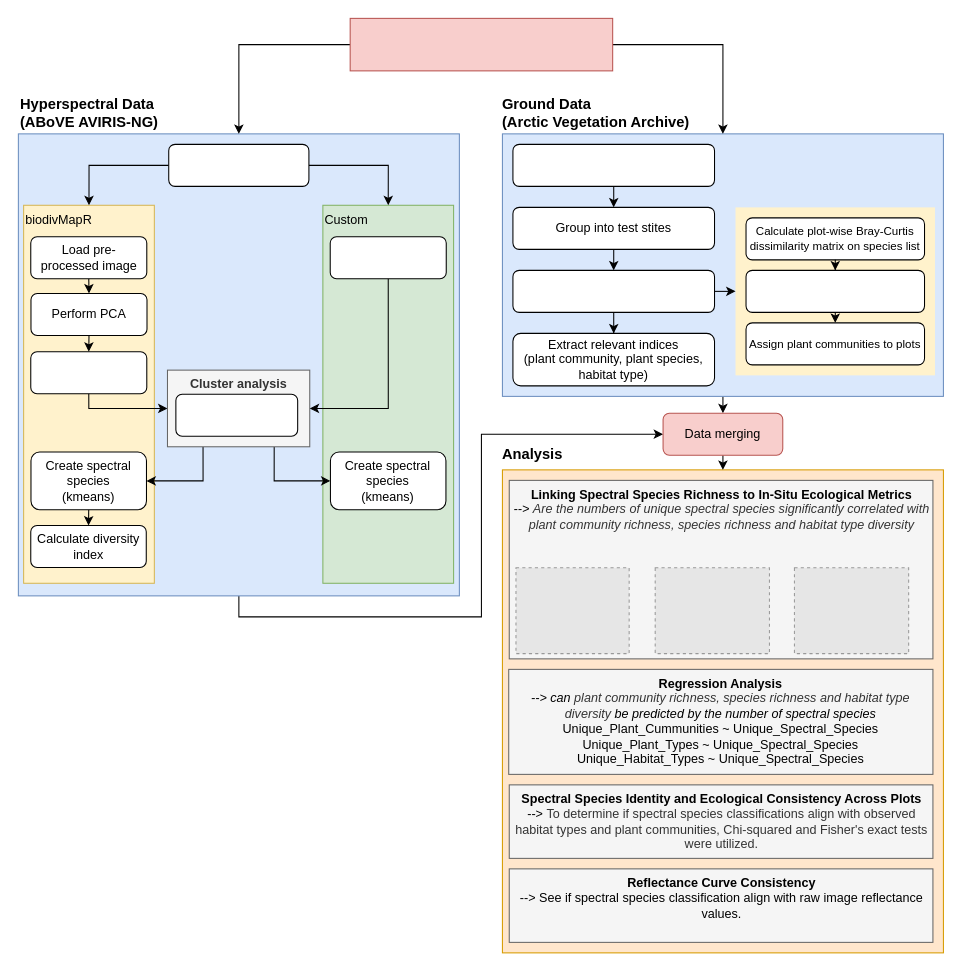
Image size: 962x971. Some labels were removed from this diagram. Grey dashed boxes stand in for pictures. Each missing label, with the centre of its shape:
Define plant communities on test site level: [613,290]
Extract plot data from Turboveg: [613,164]
Image pre-processing (Crop, rectify, mask): [238,164]
Load pre-processed image: [387,257]
Perform HDBSCAN (define plant communities): [835,290]
Select PC (manual step): [88,372]
Test site definition (match hyperspectral images - plots): [481,44]
Within-Cluster Sum of Squares (WCSS): [236,414]
